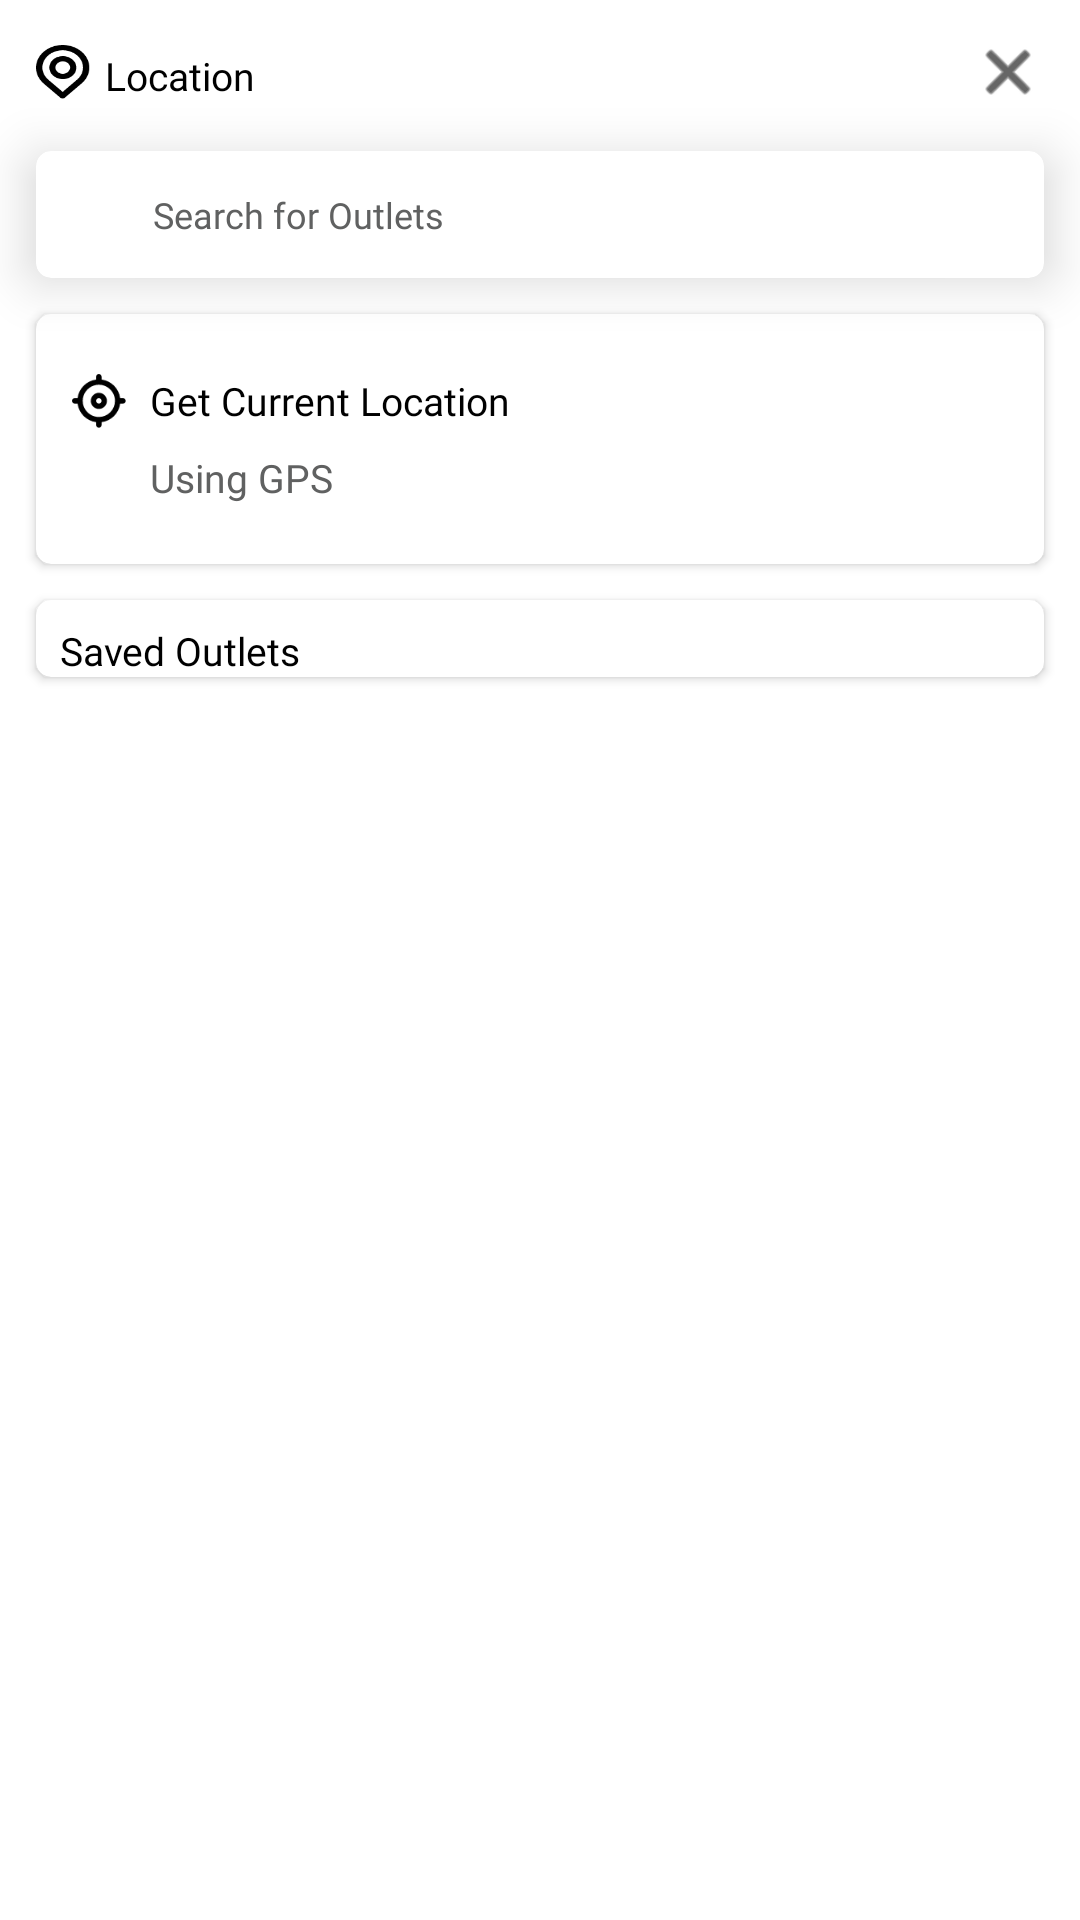

Icons on this 1080 x 1920 Android screen, each with the point to tap as point (x, y):
close clear cancel: point (1008, 72)
